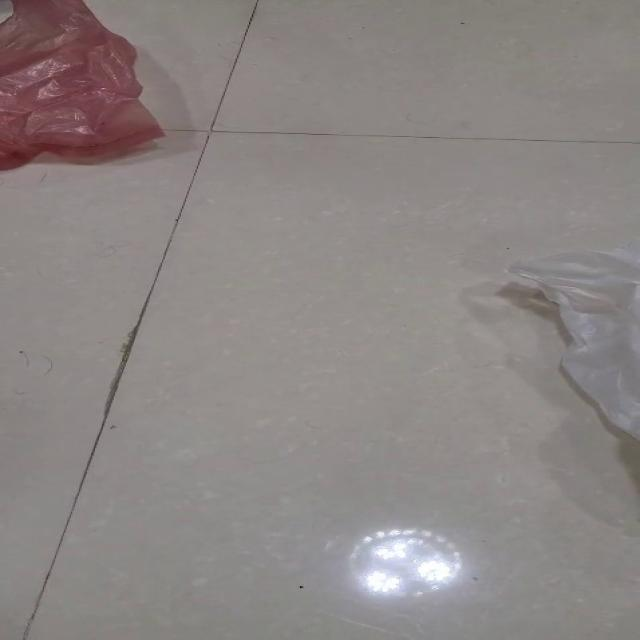plastic: (0, 0, 165, 171), (504, 244, 638, 441)
